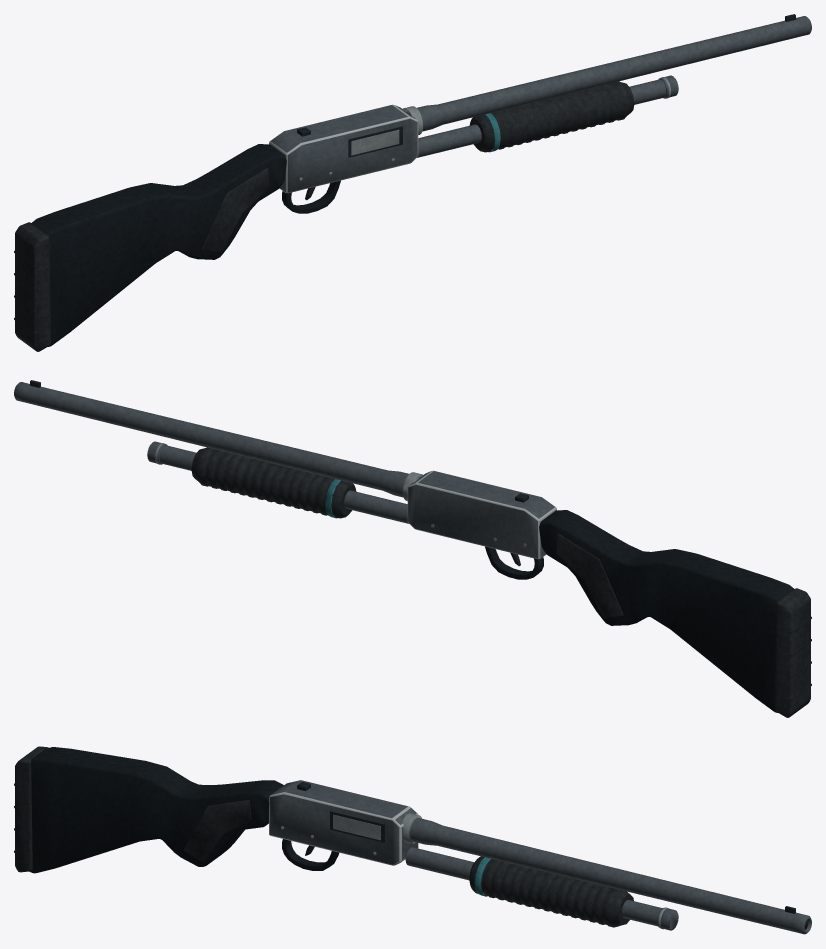
File: pump_shotgun.glb
The picture shows the model from 3 angles, top to bottom: view 1: azimuth 30°, elevation 25°; view 2: azimuth 150°, elevation 25°; view 3: azimuth 330°, elevation 25°; orthographic projection.
Visible parts, largest first — view 1: Shotgun_Body, Shotgun_Pump; view 2: Shotgun_Body, Shotgun_Pump; view 3: Shotgun_Body, Shotgun_Pump.
Boxes of the visible parts, x1,y1,x2,y2 form: Shotgun_Body: (14,14,811,351); Shotgun_Pump: (469,81,634,152); Shotgun_Body: (14,380,811,717); Shotgun_Pump: (191,447,356,518); Shotgun_Body: (14,746,811,934); Shotgun_Pump: (469,856,633,927).
Bounding box in the file's own units: 1.03 × 0.1855 × 0.047.
7 materials, 5 textured.
